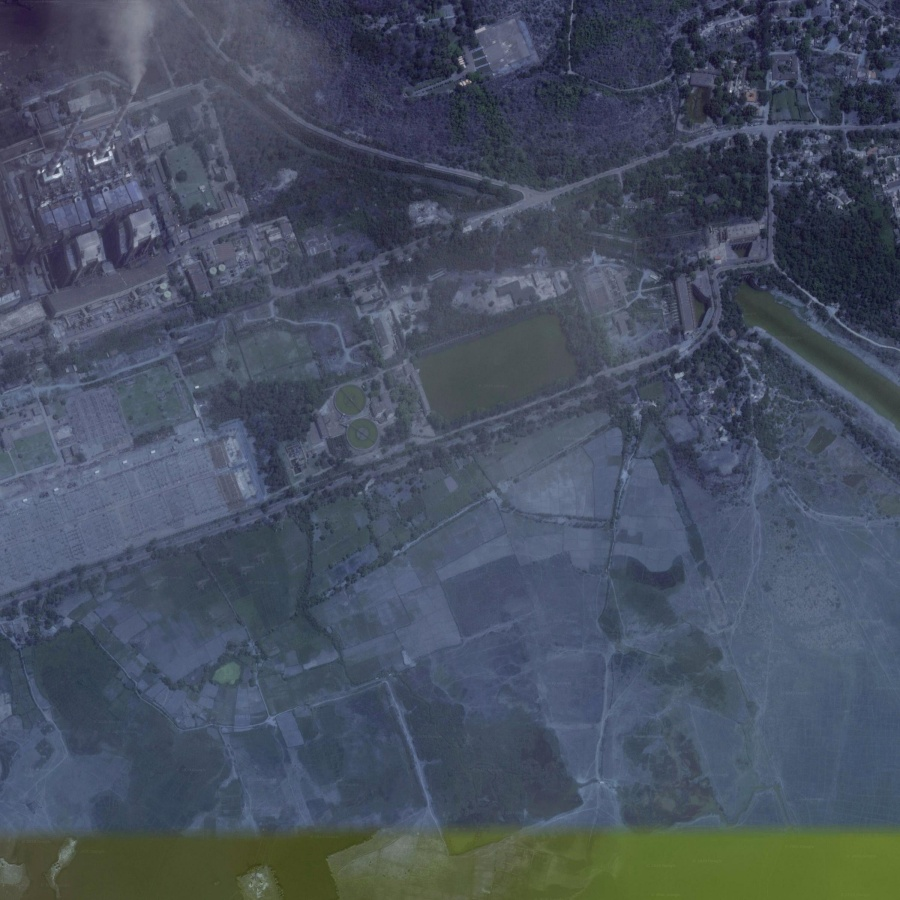PowerPlant: (404, 292, 586, 440)
